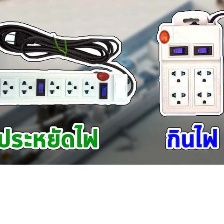three_eye_plug: (153, 20, 224, 117), (0, 69, 130, 105)
